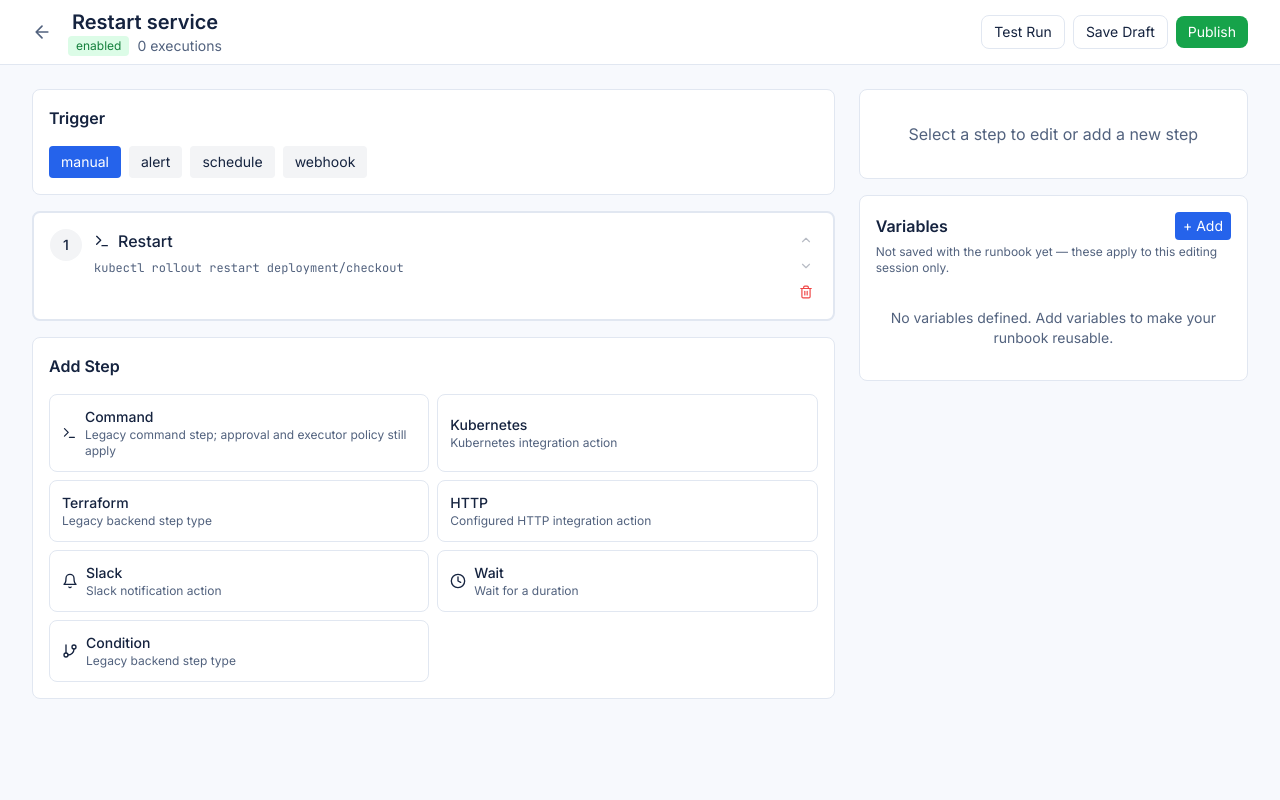
Scenario: RunbookBuilder save › PUTs an edit to a loaded runbook and confirms it saved
Click the button "Save Draft" at (1120, 32), box left=1073, top=15, right=1168, bottom=49
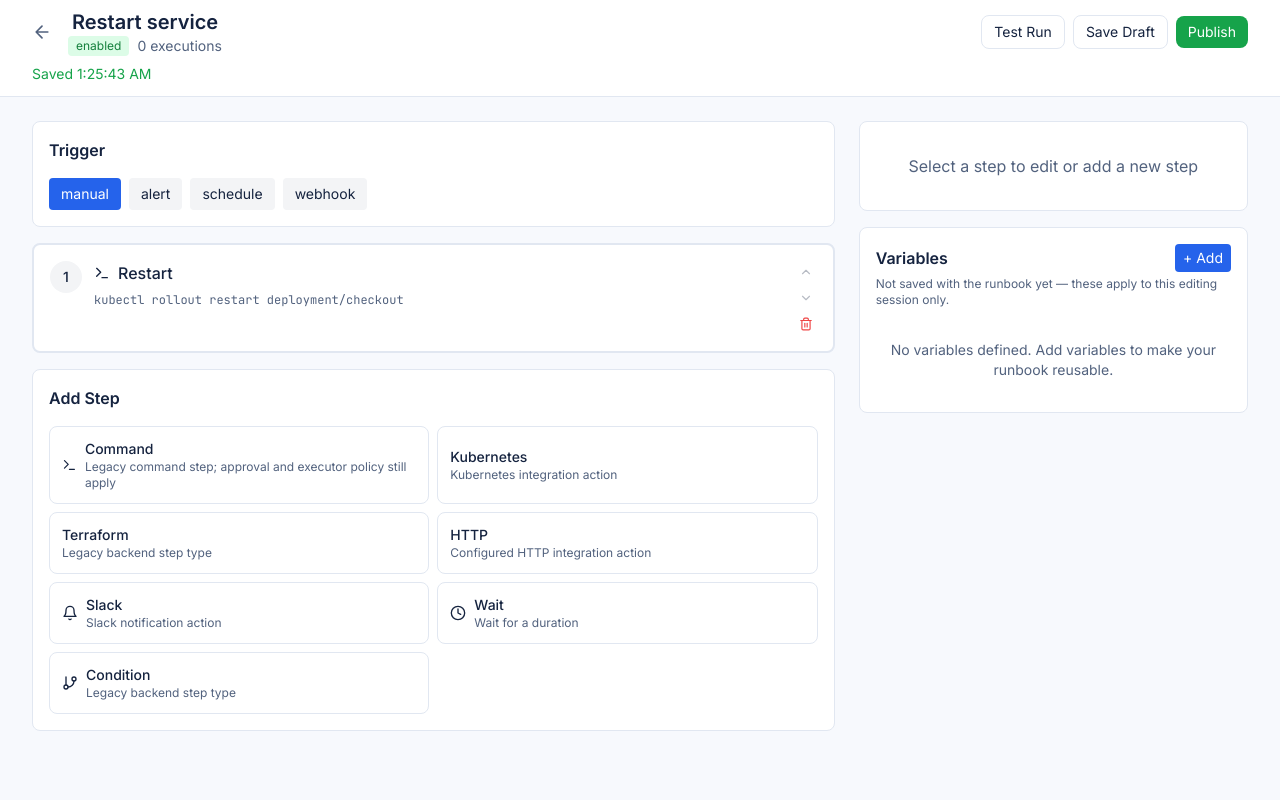
Check: the text "Saved 1:25:43 AM" is shown, box left=32, top=64, right=152, bottom=84
